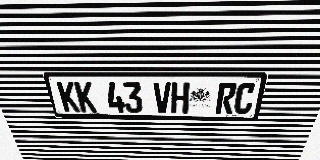3: (123, 82, 143, 113)
4: (105, 82, 126, 113)
C: (233, 82, 257, 114)
H: (171, 82, 190, 113)
K: (57, 81, 81, 112), (74, 82, 97, 112)
R: (215, 82, 238, 114)
V: (153, 82, 171, 113)
